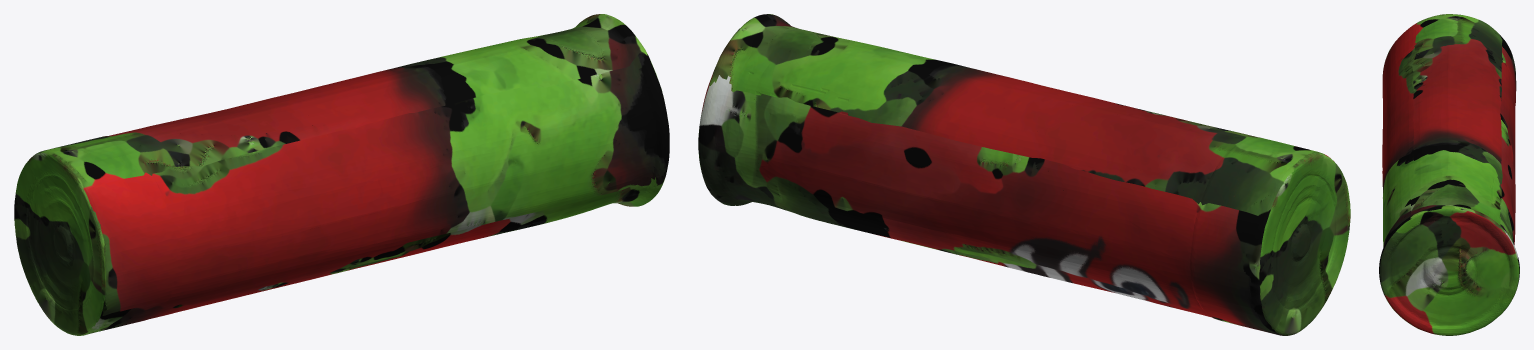
File: sample.obj
3 renders of one model, left to right at view 1: azimuth 30°, elevation 25°; view 2: azimuth 150°, elevation 25°; view 3: azimuth 270°, elevation 25°, orthographic. The views are drawn at different scales.
Bounding box in the file's own units: 0.0707 × 0.0215 × 0.0213.
